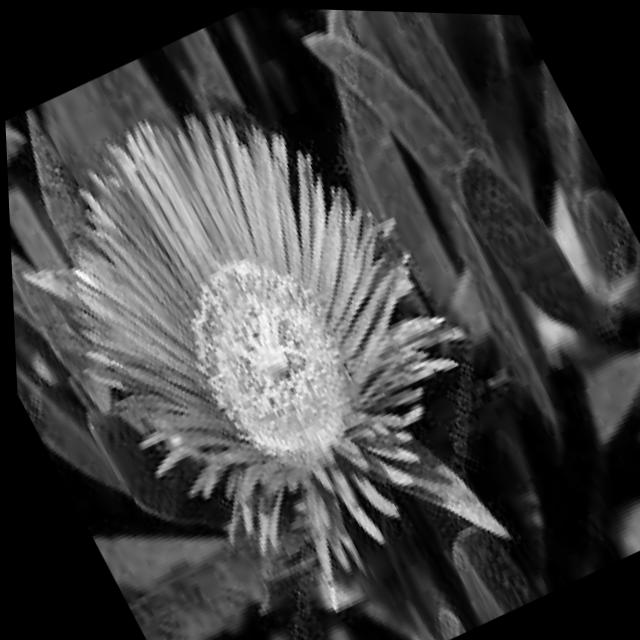Flower: (1, 32, 533, 622)
